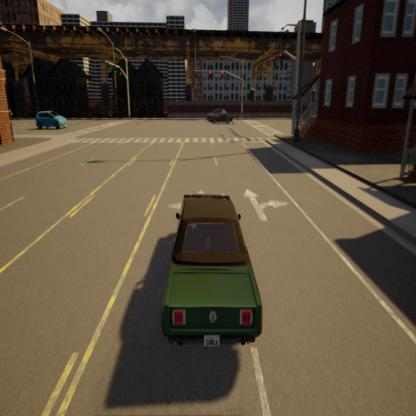Cars: (153, 182, 287, 366), (32, 104, 74, 140), (197, 100, 238, 132)
